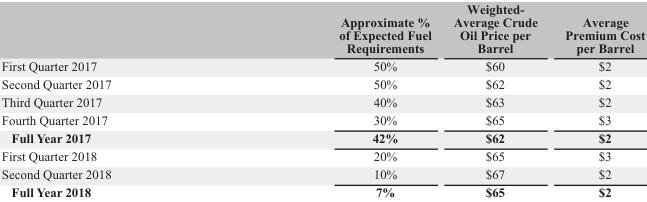table: (0, 1, 644, 199)
table column: (0, 1, 224, 199), (224, 1, 441, 199), (441, 1, 550, 199), (550, 1, 644, 199)
table column header: (0, 1, 644, 56)
table row: (0, 1, 644, 56), (0, 146, 644, 165), (0, 56, 644, 74), (0, 74, 644, 92), (0, 92, 644, 110), (0, 110, 644, 128), (0, 128, 644, 146), (0, 165, 644, 183), (0, 183, 644, 199)
